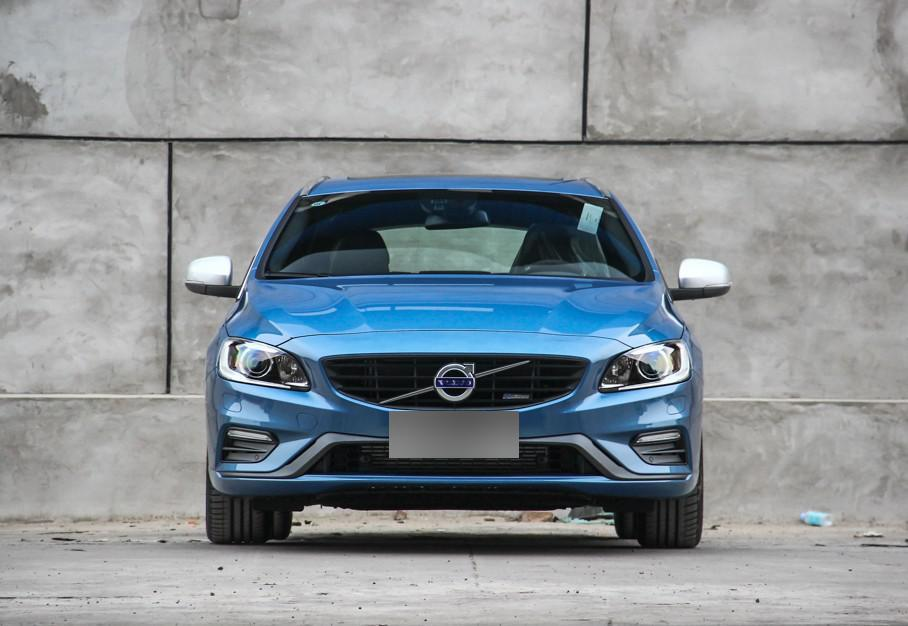Wagon: (186, 175, 730, 550)
